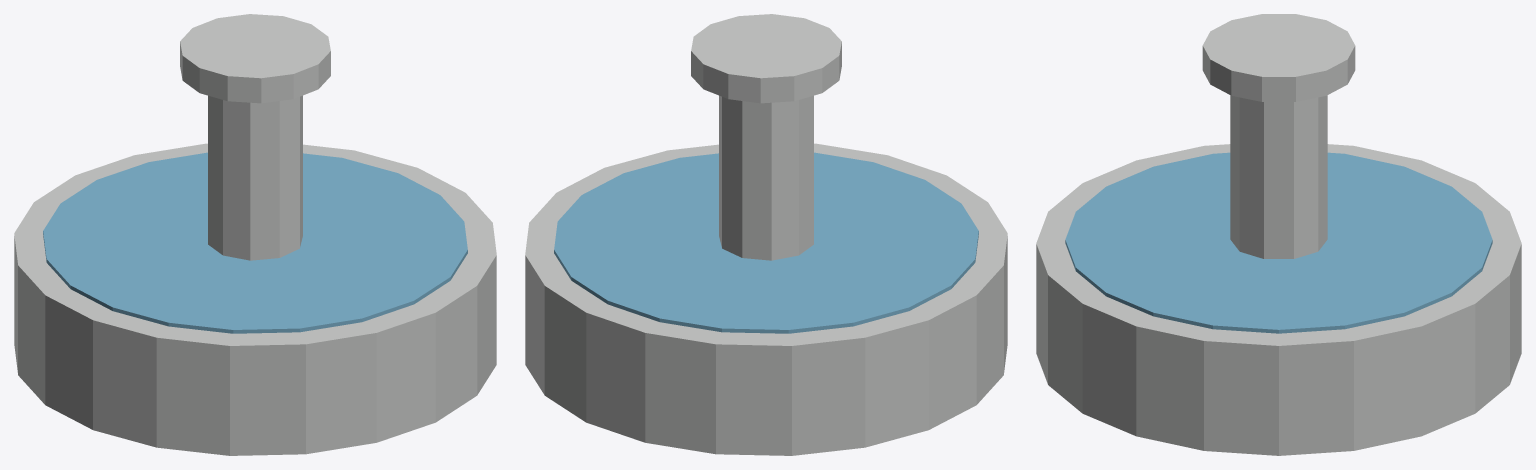
Rendered from fountain.glb.
3 renders of one model, left to right at view 1: azimuth 30°, elevation 25°; view 2: azimuth 150°, elevation 25°; view 3: azimuth 270°, elevation 25°, orthographic.
Visible parts, largest first — view 1: Fountain; view 2: Fountain; view 3: Fountain.
Boxes of the visible parts, x1,y1,x2,y2 form: Fountain: (14, 14, 496, 455); Fountain: (525, 14, 1007, 455); Fountain: (1036, 14, 1521, 455).
Size of the model in its own units: 1.4 by 0.98 by 1.4.
